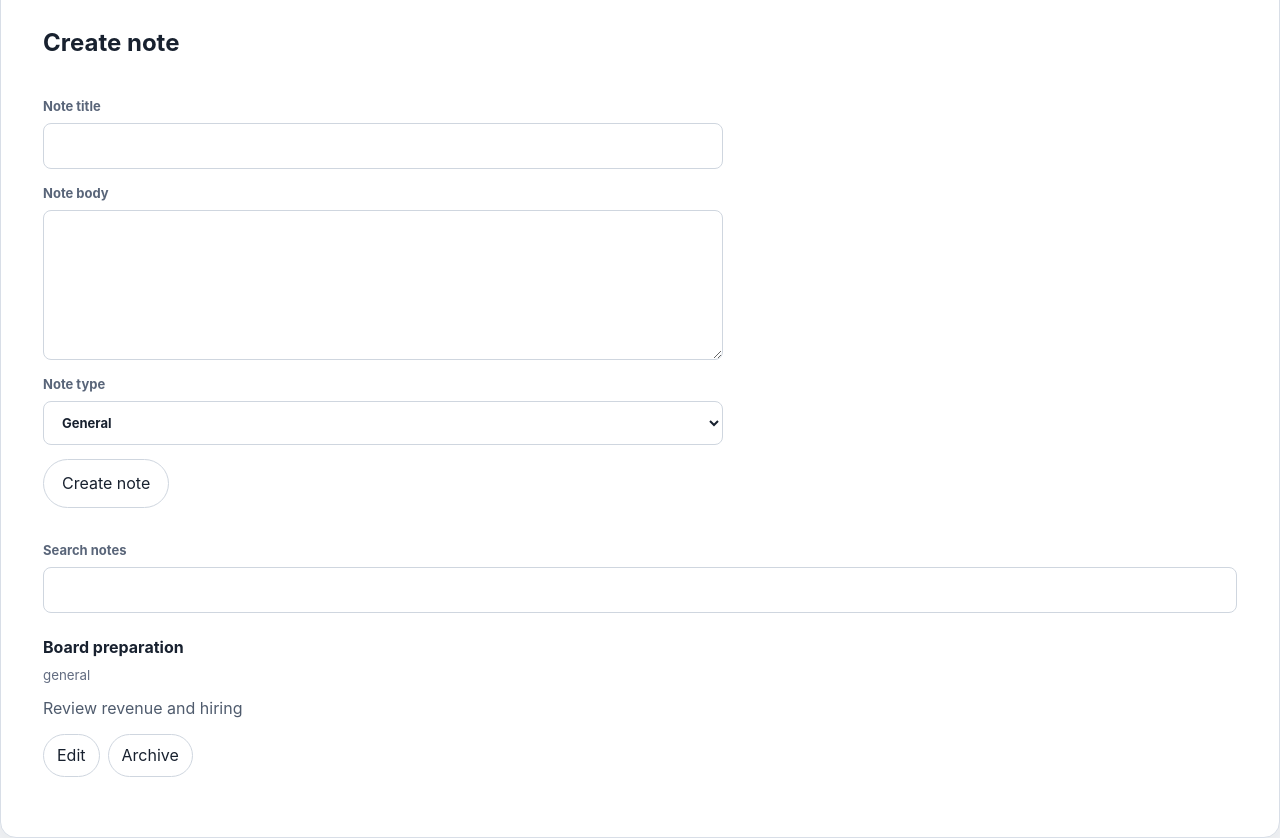
NoteWorkspace › blocks stale conflict retries until the latest note can be reloaded
The image size is (1280, 838).
(page scrolled)
Expected: the text "Board preparation" is shown, [43,637,184,657]
Click the button with aria-label "Edit Board preparation".
click(71, 756)  # box [43,734,100,777]
(page scrolled)
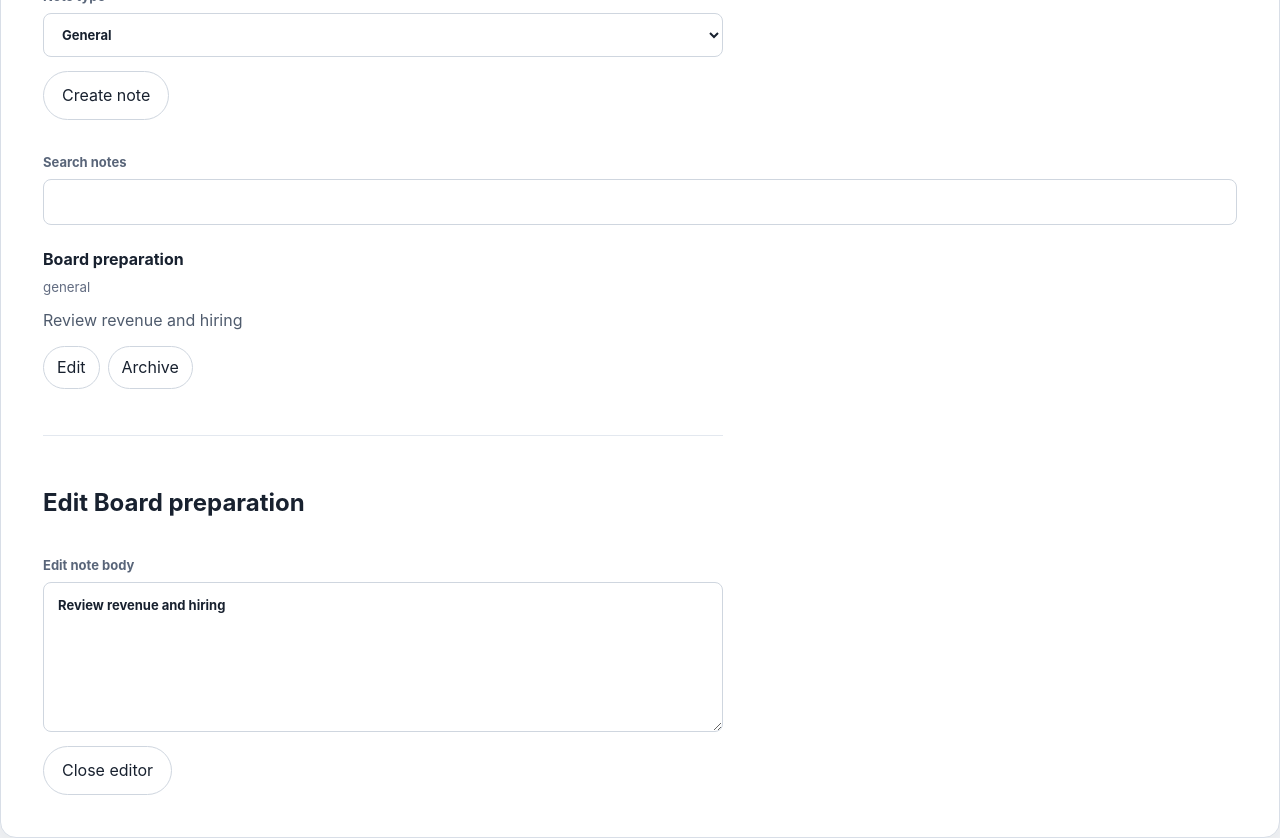
Replace the text in the text box labelled "Edit note body" with "Keep this conflict draft" at x=383, y=657, box [43,582,723,732]
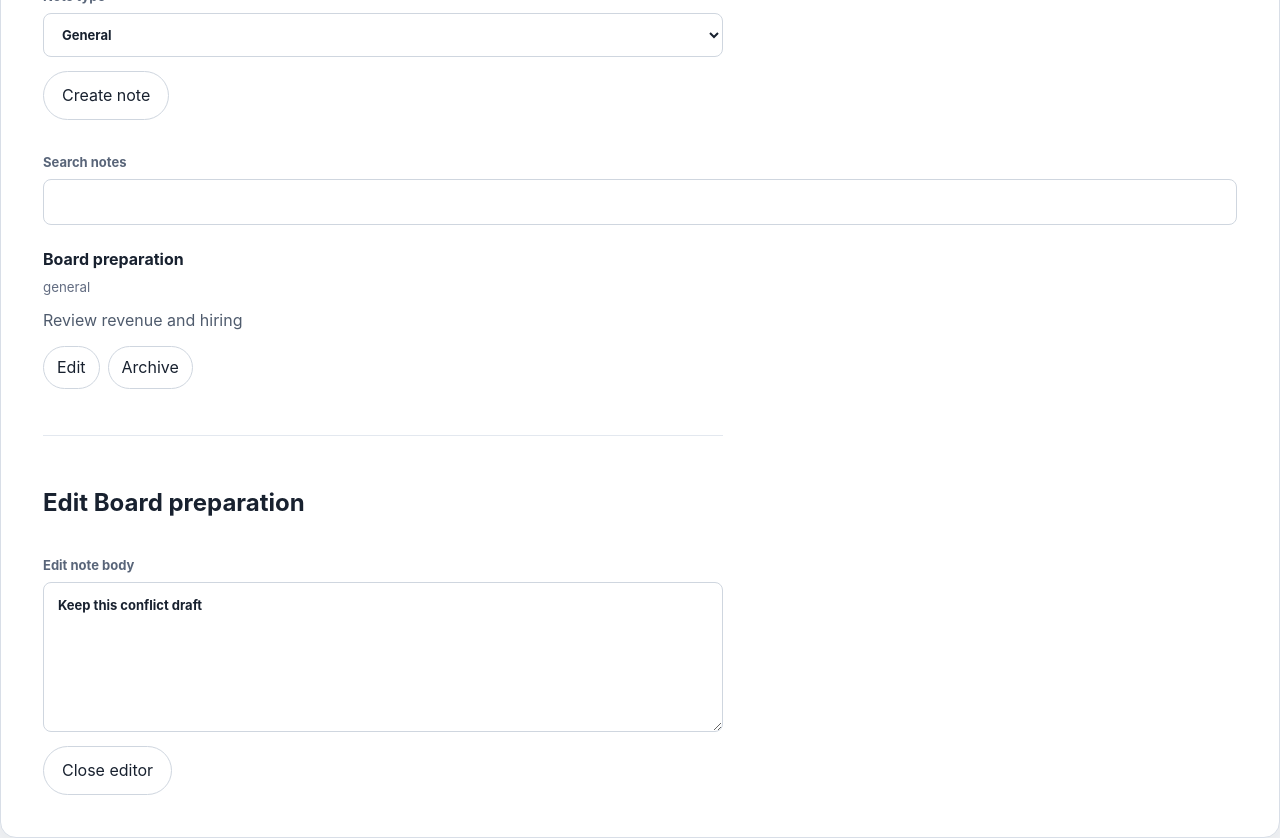
Leave the text box labelled "Edit note body", box [43,582,723,732]
(page scrolled)
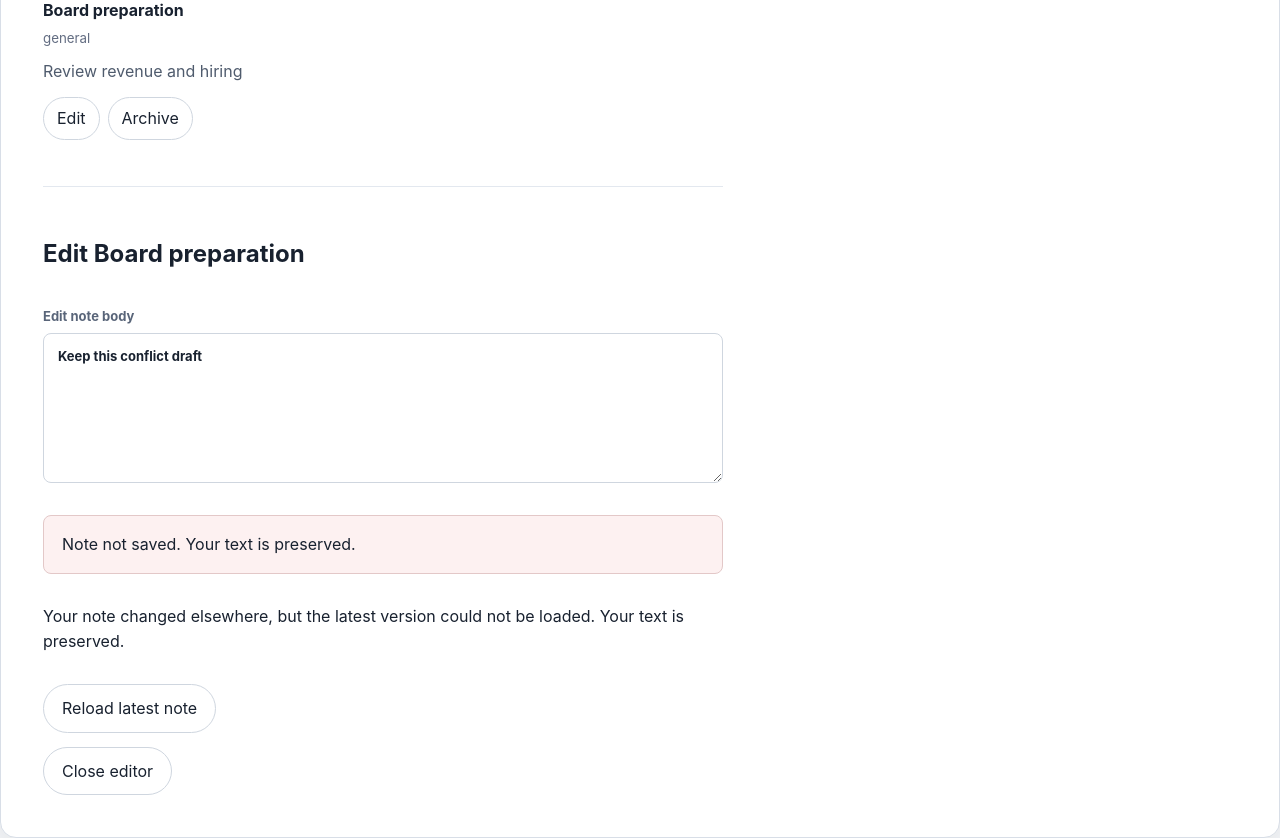
Expected: the button "Reload latest note" is shown
Click the button "Reload latest note".
click(130, 708)  # box [43,684,216,733]
(page scrolled)
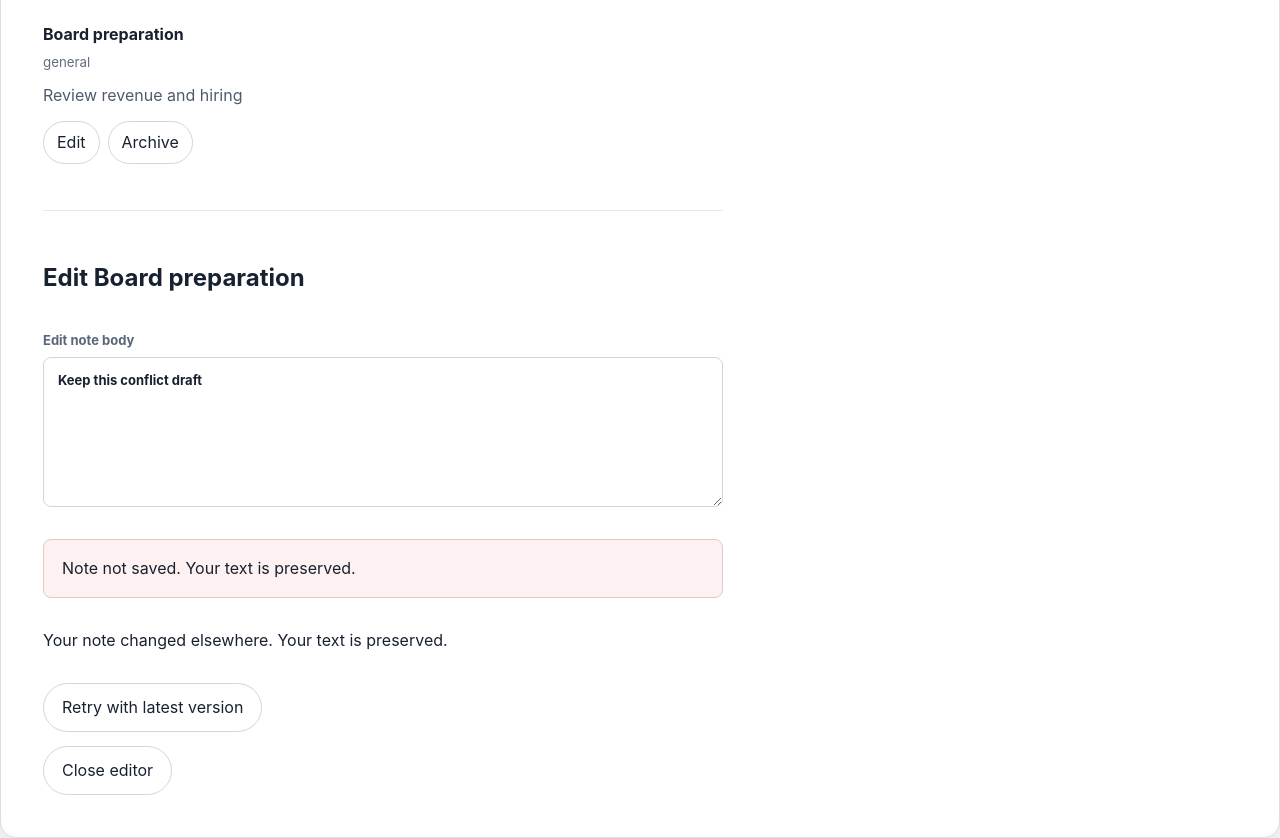
Expected: the button "Retry with latest version" is shown, [43,683,262,732]
